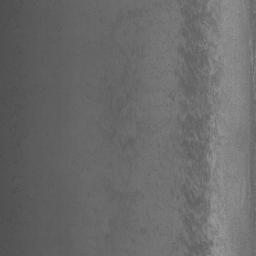Silk spot: (175, 0, 221, 256), (120, 138, 135, 152), (179, 100, 194, 112), (132, 46, 146, 57), (127, 8, 142, 18)
